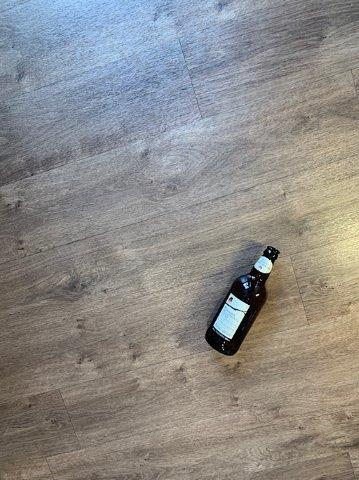botolkaca: (205, 246, 281, 356)
